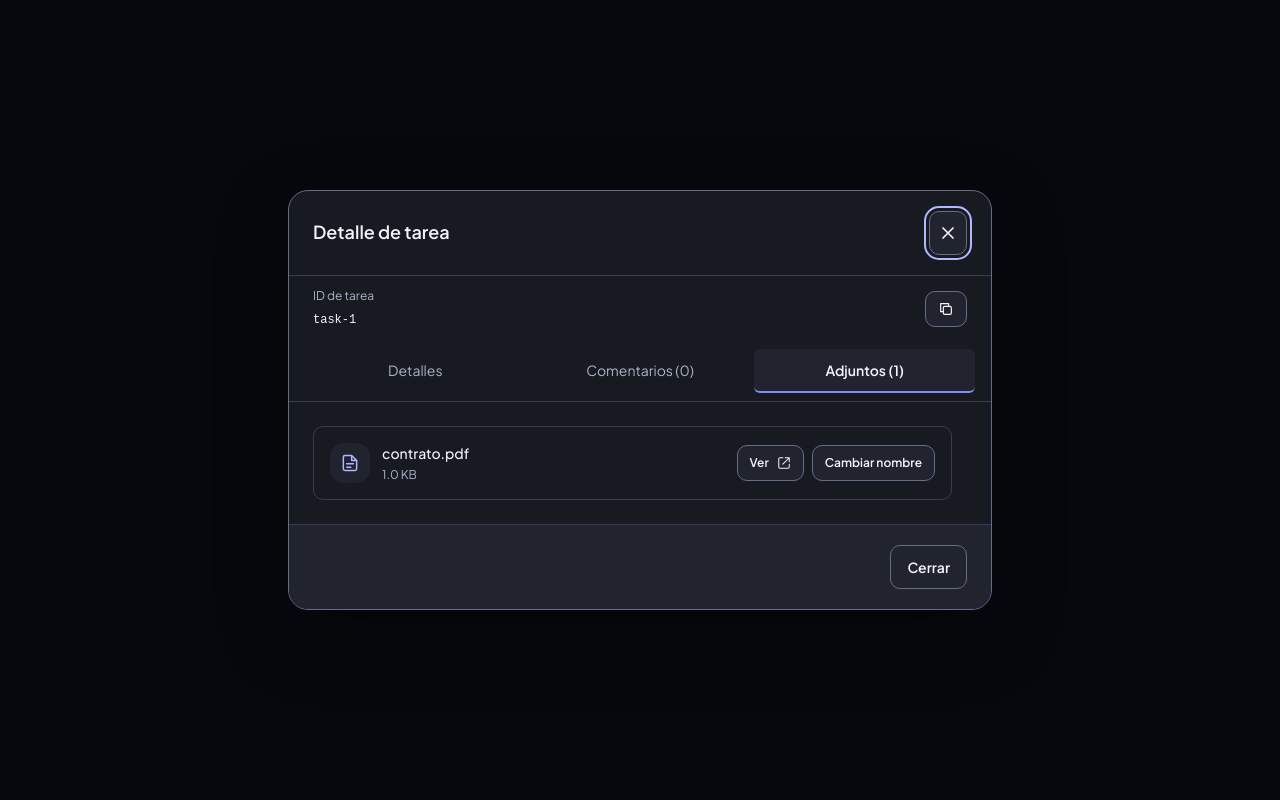
Test: Gestión de adjuntos › permite editar el nombre mostrado y confirma el guardado
Click the button with aria-label "Cambiar nombre de contrato.pdf" at x=873, y=463, box [812,445,935,481]
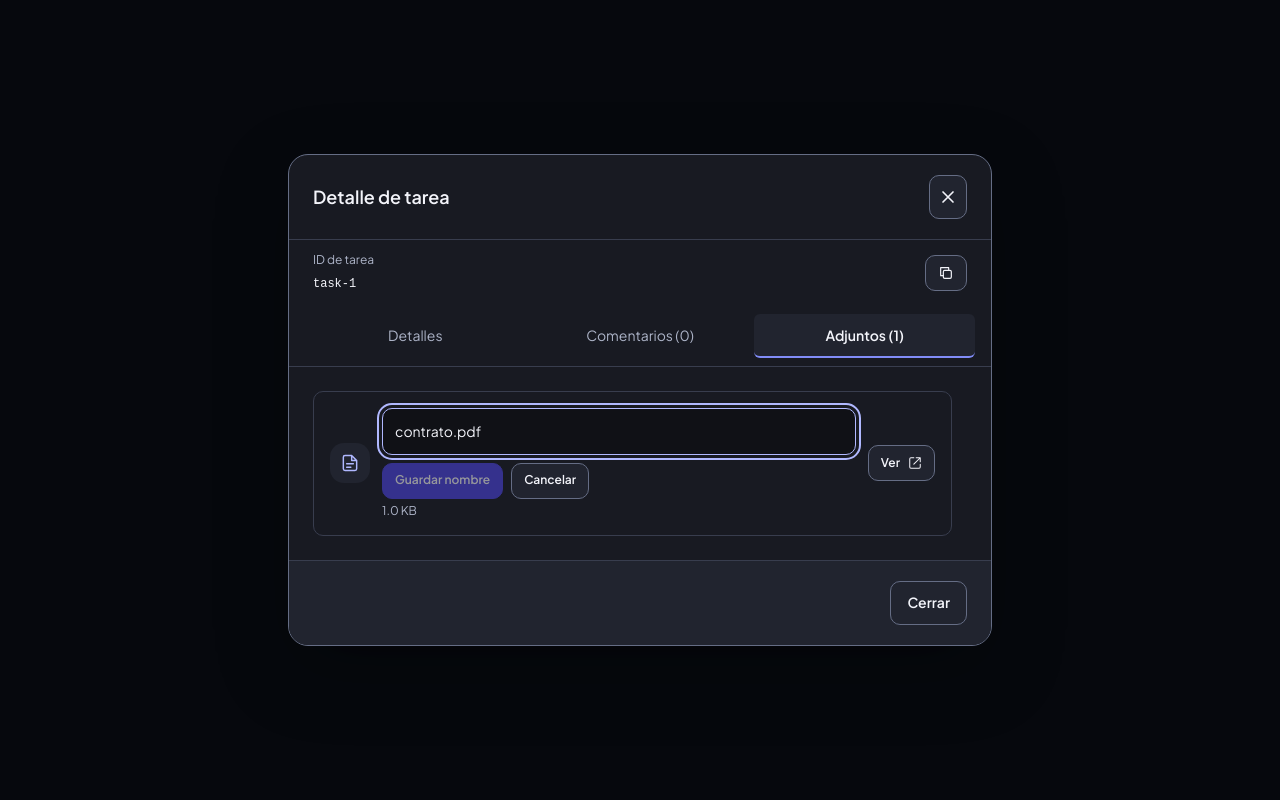
Now the field named "Nuevo nombre de contrato.pdf" holds "contrato.pdf"
Clear the field named "Nuevo nombre de contrato.pdf" at x=619, y=431, box [382,408,856,455]
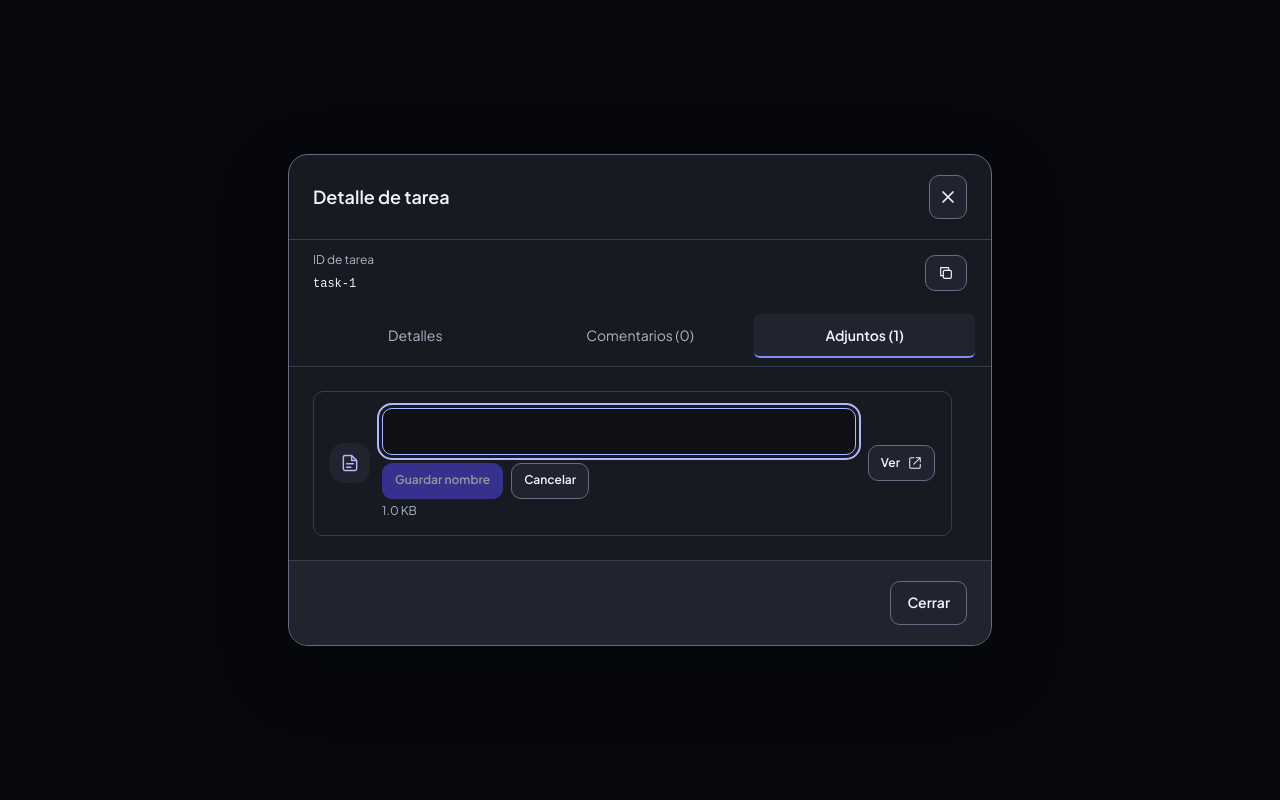
Now the button "Guardar nombre" is disabled, box [382,463,503,499]
Type "contrato-firmado.pdf" into the field named "Nuevo nombre de contrato.pdf" at x=619, y=431, box [382,408,856,455]
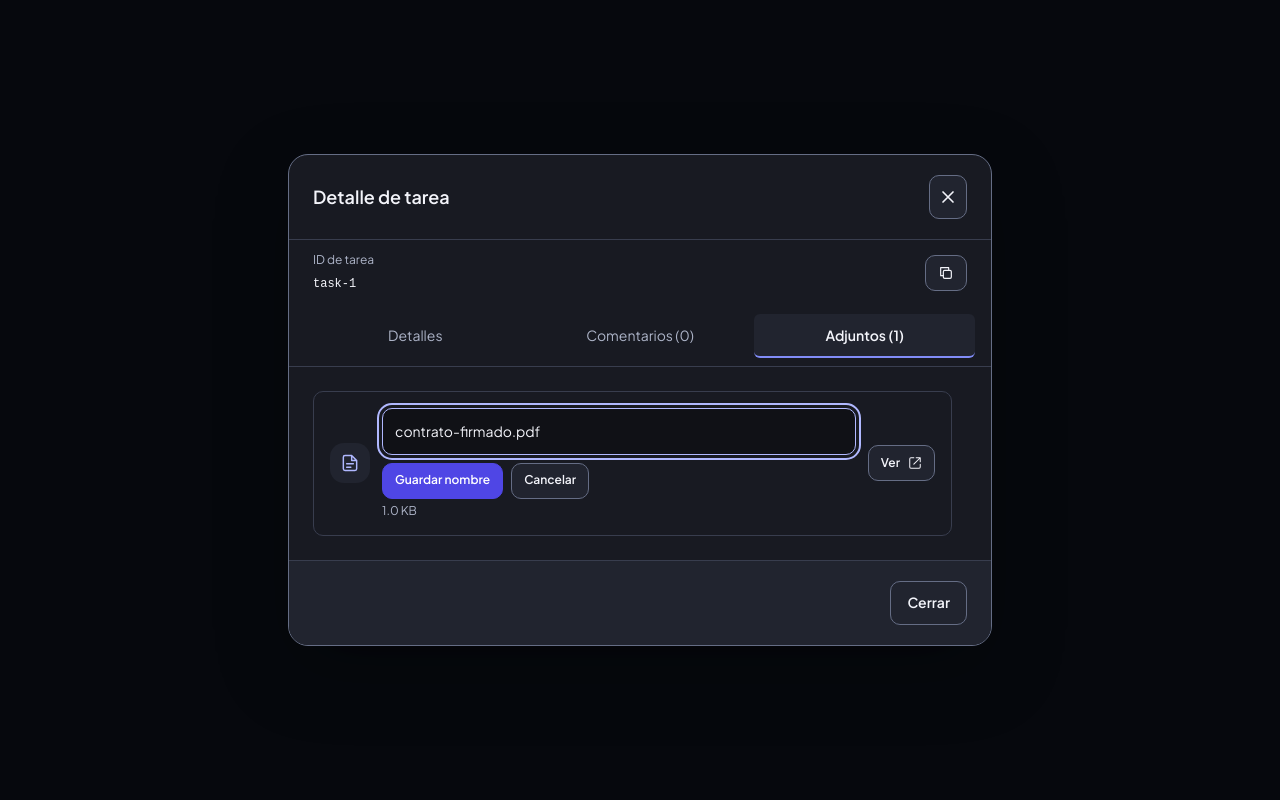
Click the button "Guardar nombre" at x=443, y=481, box [382,463,503,499]
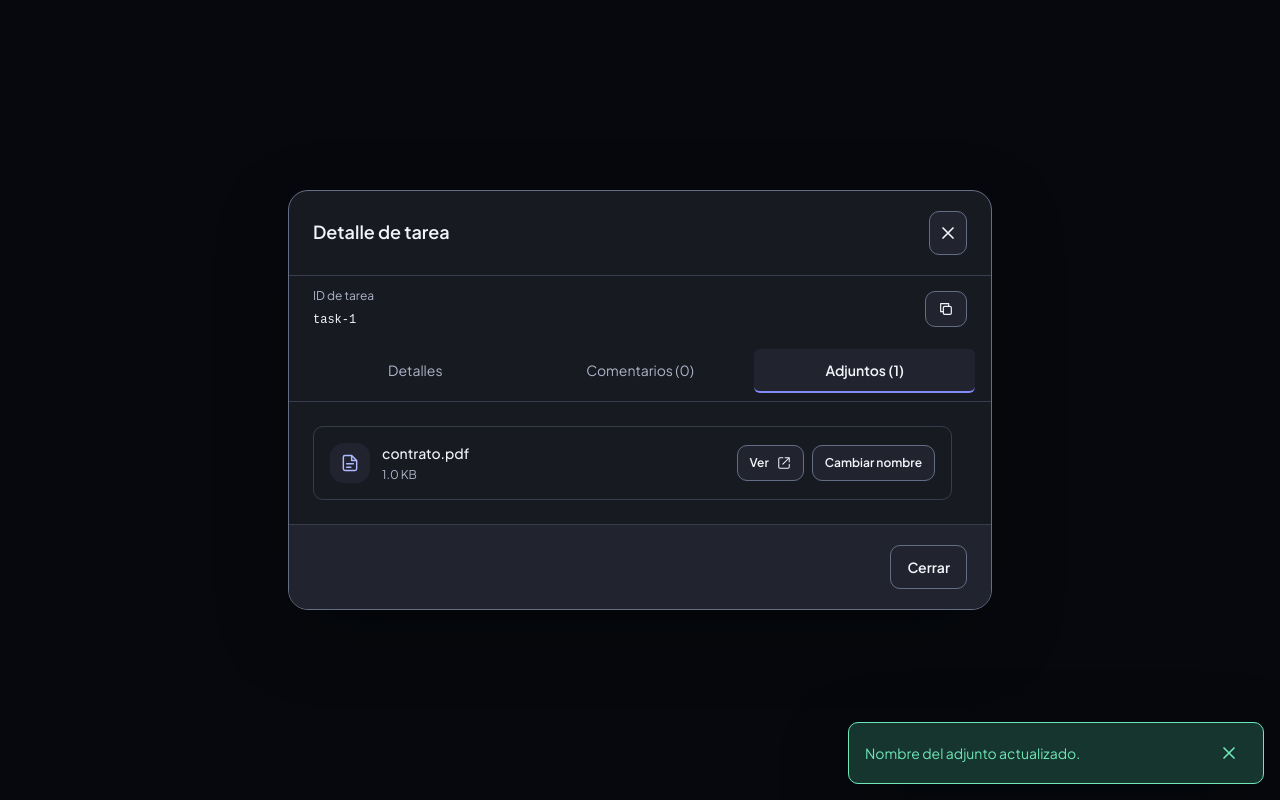
Expected: the field labelled "Nuevo nombre de contrato.pdf" is not shown
Now the message reads "Nombre del adjunto actualizado.", box [865,744,1080,762]
